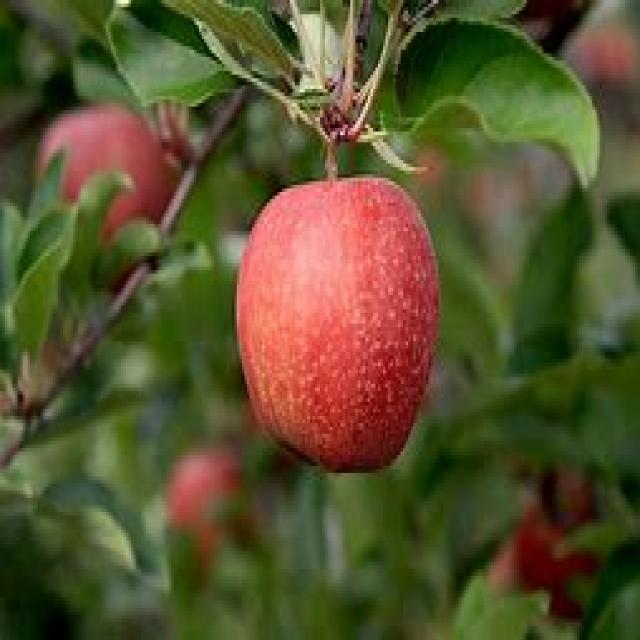apple: (236, 172, 443, 479)
